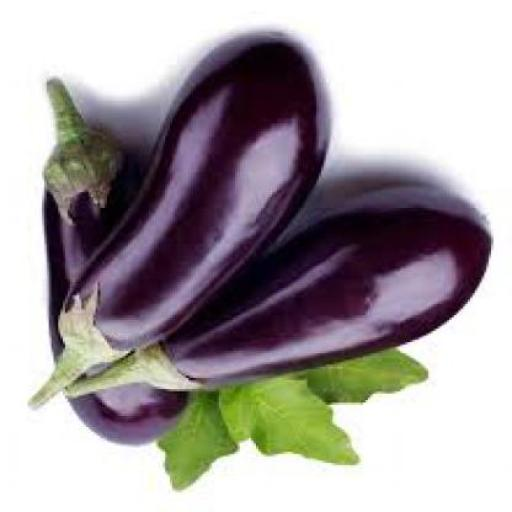biodegradable: (30, 36, 333, 414), (74, 181, 493, 400), (44, 83, 196, 447), (160, 356, 431, 496)
